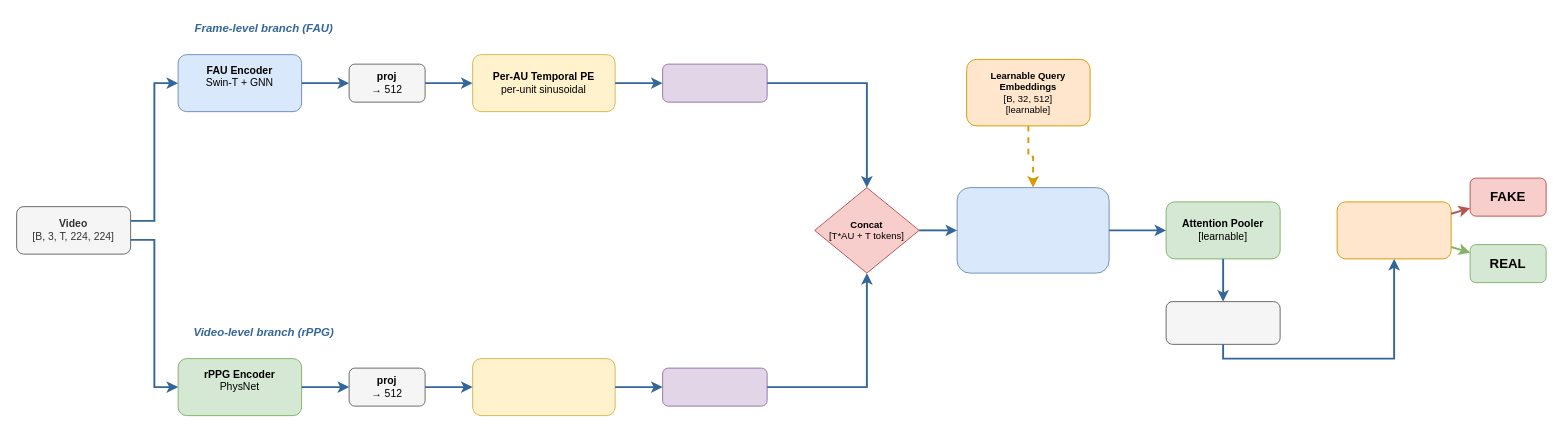
The diagram is 1563 pixels wide and 432 high, and some of its shapes have lost their labels. The shapes that lost their labels are listed below. From the top down, each one's centre as x and y in pixels, then its label:
At (714,82): "+ Seg Emb (0)".
At (1032,230): "Transformer Decoder (Q-Former) 6 layers, 8 heads [learnable]".
At (1393,230): "MLP Classifier [learnable]".
At (1222,322): "LN + Dropout".
At (543,387): "Sinusoidal Pos Enc".
At (714,386): "+ Seg Emb (1)".
